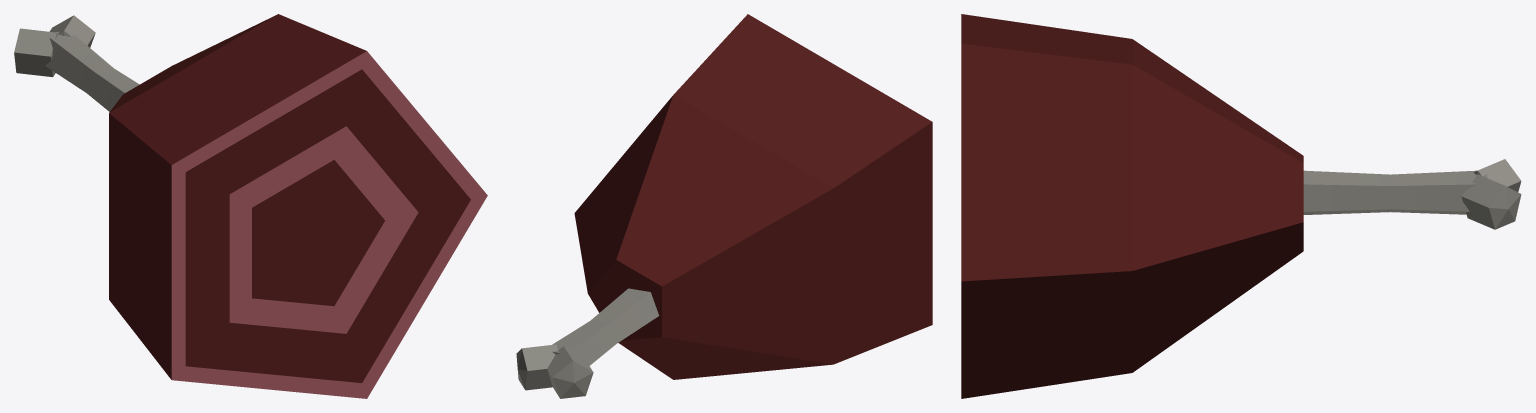
File: 肉骨头.fbx
3 renders of one model, left to right at view 1: azimuth 30°, elevation 25°; view 2: azimuth 150°, elevation 25°; view 3: azimuth 270°, elevation 25°, orthographic. The views are drawn at different scales.
Parts seen in each view (by area): view 1: rougutou; view 2: rougutou; view 3: rougutou.
Boxes of the visible parts, bbox=[...] form: rougutou: bbox=[14, 14, 487, 398]; rougutou: bbox=[516, 14, 932, 398]; rougutou: bbox=[961, 14, 1521, 398].
Size of the model in its own units: 15.38 by 16.17 by 23.09.
